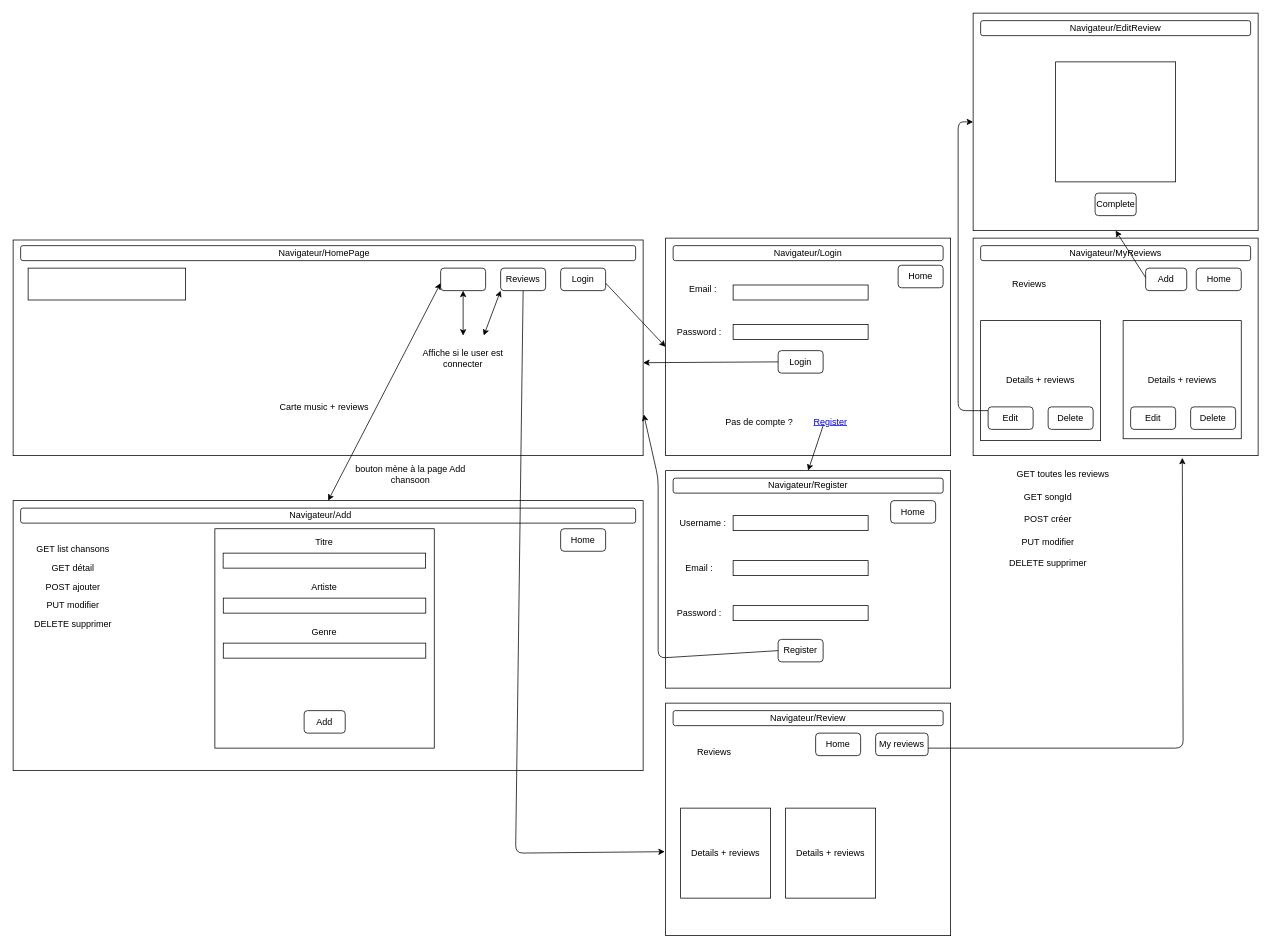
The diagram is 1271 pixels wide and 949 high, and some of its shapes have lost their labels. The shapes that lost their labels are listed below. From the top down, each one's box as (x1, y1, x2, y2) in pixels, then its label:
(1055, 61, 1176, 182): Details du chanson + Commentaires a ajouter/modifier + Avis/étoile
(27, 267, 186, 300): Discover and review music !
(440, 267, 486, 291): Add song
